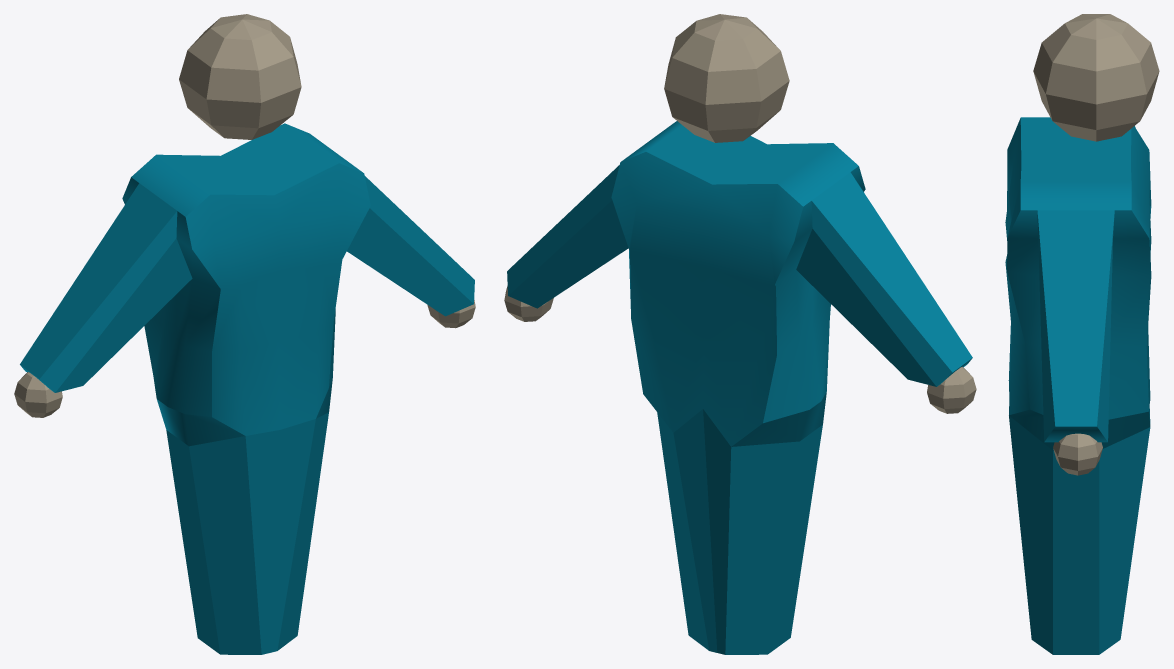
File: Guest_01.fbx
The picture shows the model from 3 angles, left to right: view 1: azimuth 30°, elevation 25°; view 2: azimuth 150°, elevation 25°; view 3: azimuth 270°, elevation 25°; orthographic projection. The views are drawn at different scales.
Visible parts, largest first — view 1: Guest; view 2: Guest; view 3: Guest.
Boxes of the visible parts, bbox=[...] form: Guest: bbox=[14, 14, 475, 654]; Guest: bbox=[504, 14, 976, 654]; Guest: bbox=[1005, 14, 1159, 654].
Size of the model in its own units: 0.9324 by 1.19 by 0.2691.
